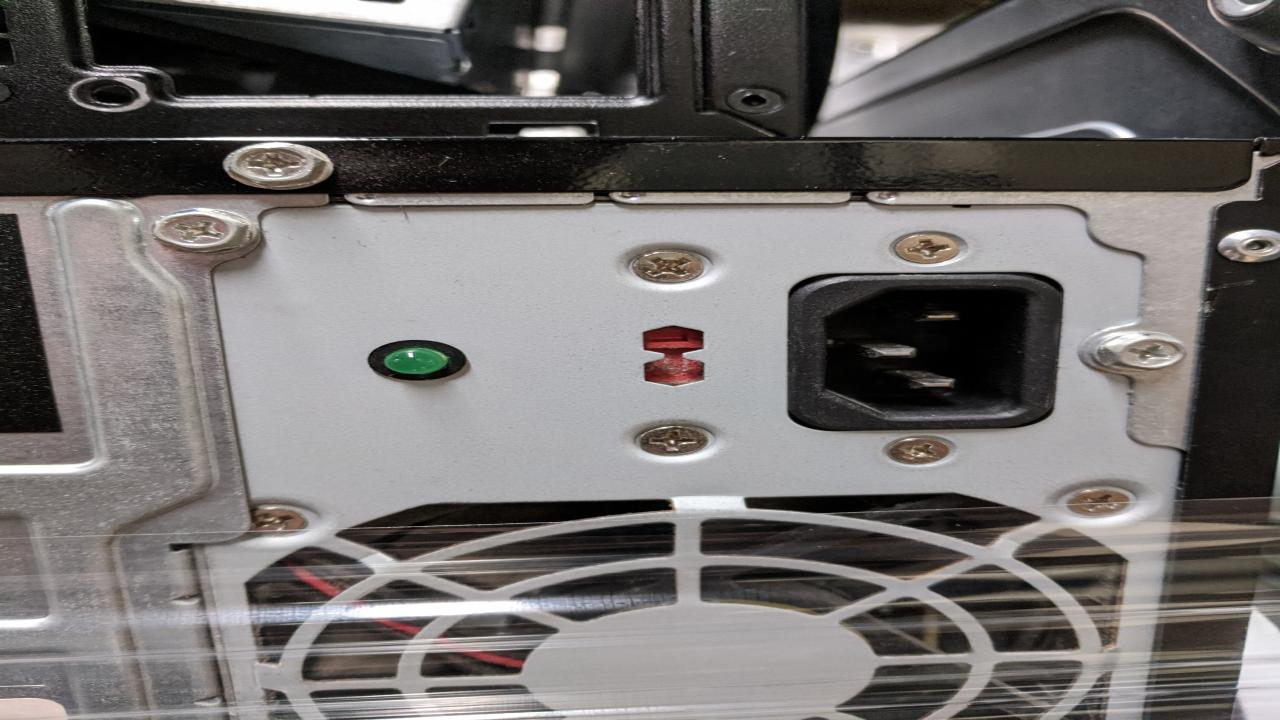CRS: (218, 140, 331, 190), (1097, 331, 1198, 373), (148, 208, 243, 252), (621, 244, 715, 286), (886, 229, 968, 265), (884, 432, 955, 469), (633, 426, 715, 456), (241, 504, 310, 538), (1070, 486, 1134, 516)
